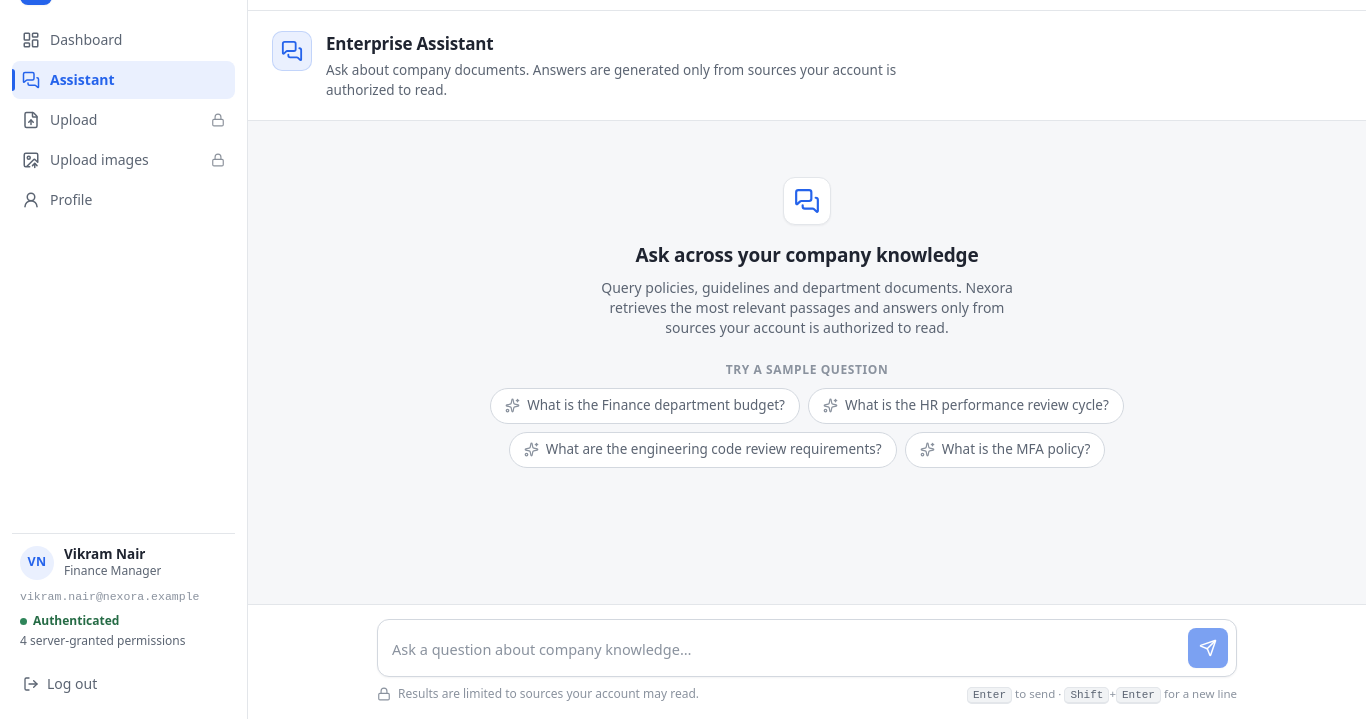
Test case: TrustProof receipt: answered › shows the model that actually answered after a fallback
Type "What is the Finance budget?" into the text box labelled "Ask a question" at [785, 650], box x1=392 y1=632 x2=1178 y2=668
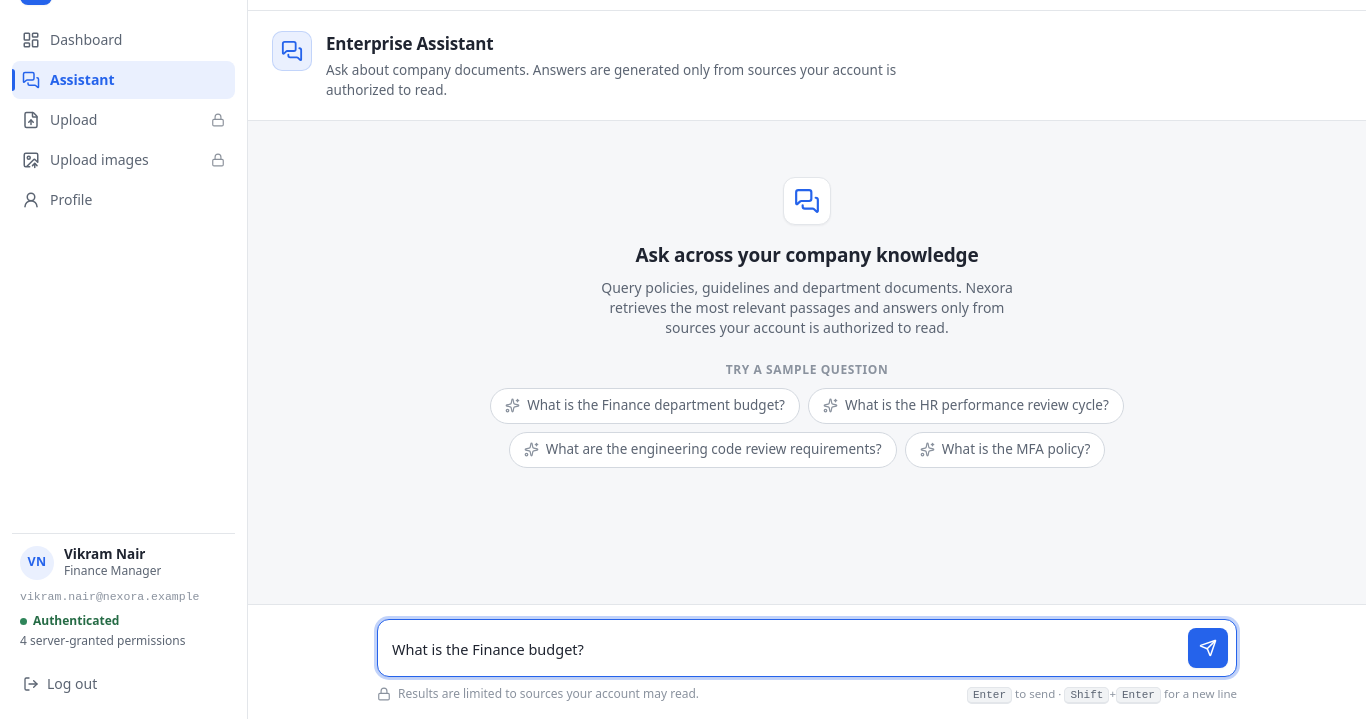
Click the button named "Send question" at [1208, 648], box x1=1188 y1=628 x2=1228 y2=668
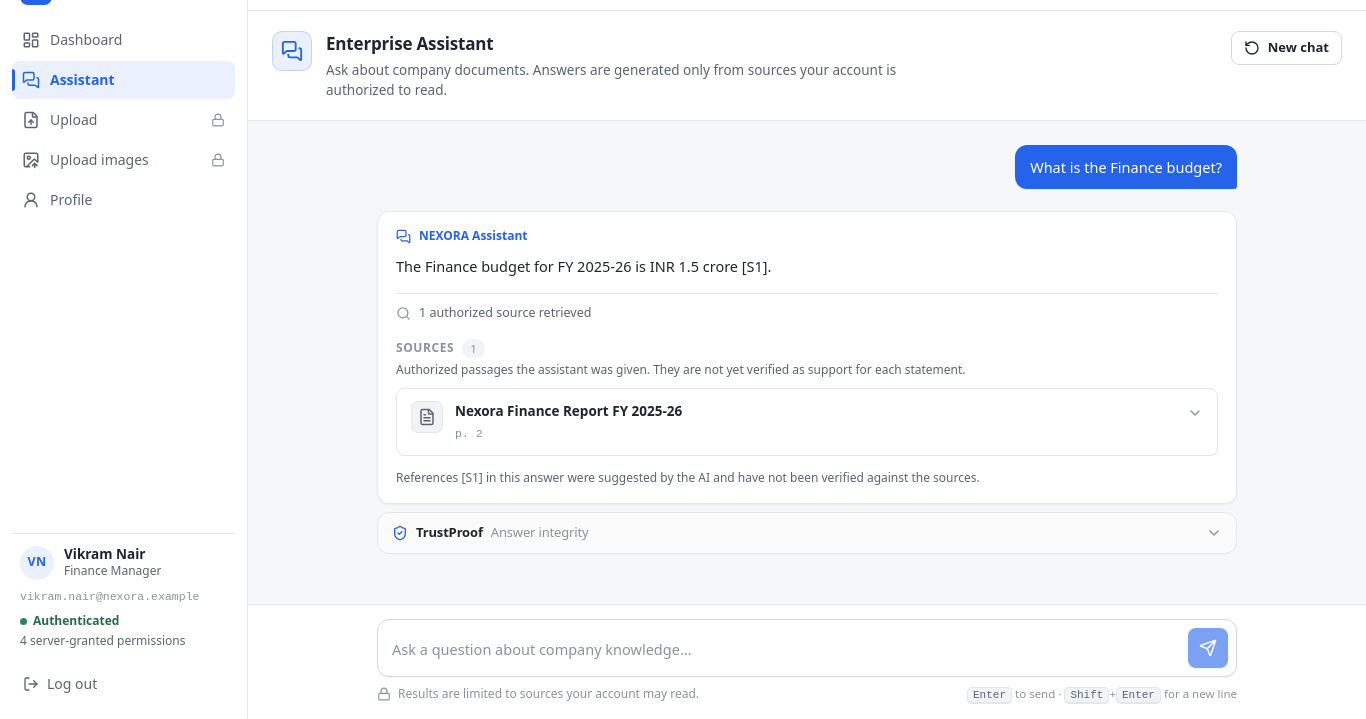
Now the text "The Finance budget for FY 2025-26 is INR 1.5 crore [S1]." is shown, box x1=396 y1=256 x2=772 y2=276
Click the button "TrustProof Answer integrity" at [449, 532], box x1=378 y1=513 x2=1236 y2=553
(page scrolled)
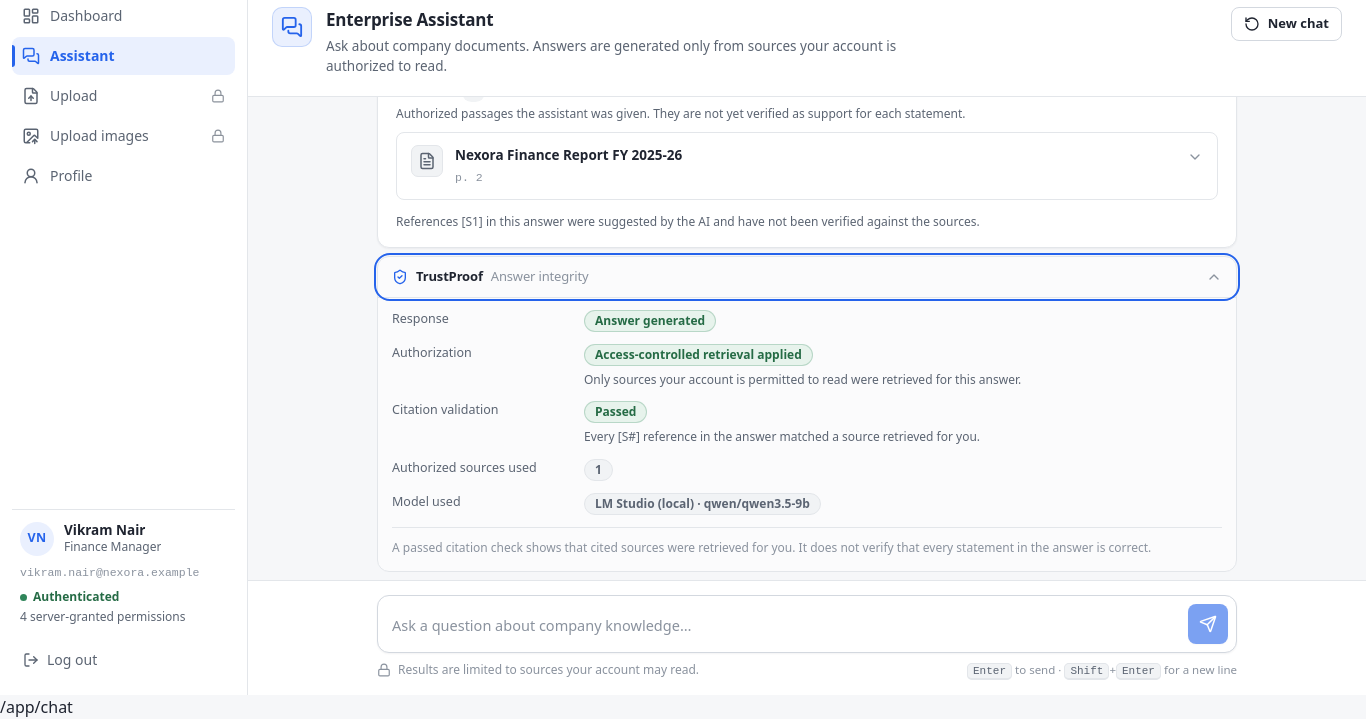
Now the text "LM Studio (local) · qwen/qwen3.5-9b" is shown, box x1=584 y1=493 x2=821 y2=515
